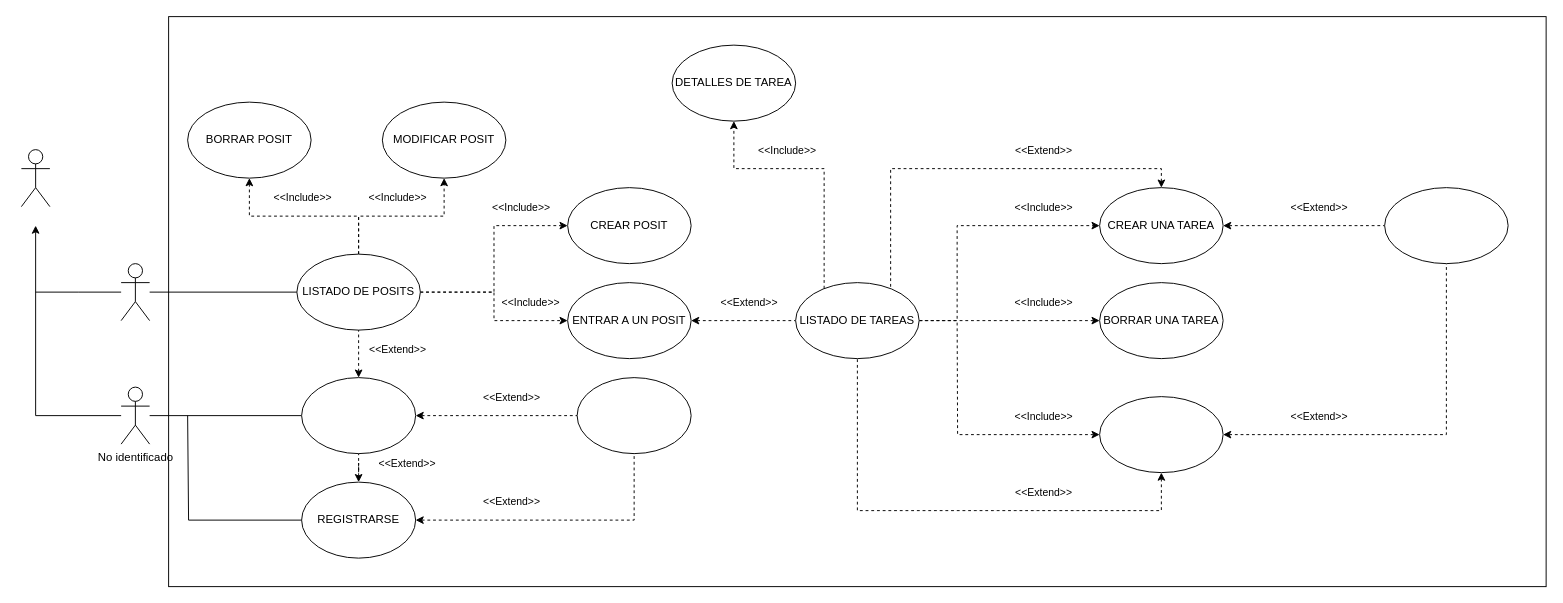
This 1563x603 diagram has some shape labels left out. The centre of each missing label's shape, as x and y in pixels:
"Identificado" belongs at (x=135, y=292).
"INICIAR SESIÓN" belongs at (x=358, y=415).
"MENSAJE DE ERROR" belongs at (x=633, y=415).
"MODIFICAR UNA TAREA" belongs at (x=1161, y=434).
"Usuario" belongs at (x=35, y=178).
"VALORES NO PERMITIDOS" belongs at (x=1446, y=225).
